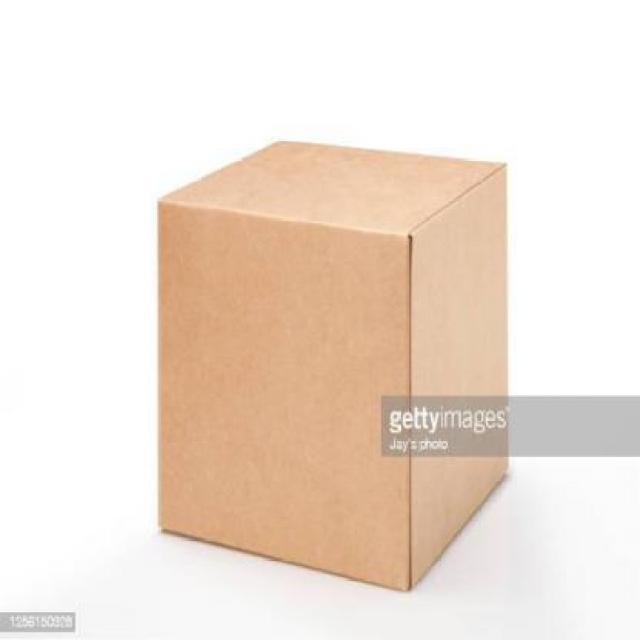box: (144, 135, 508, 595)
